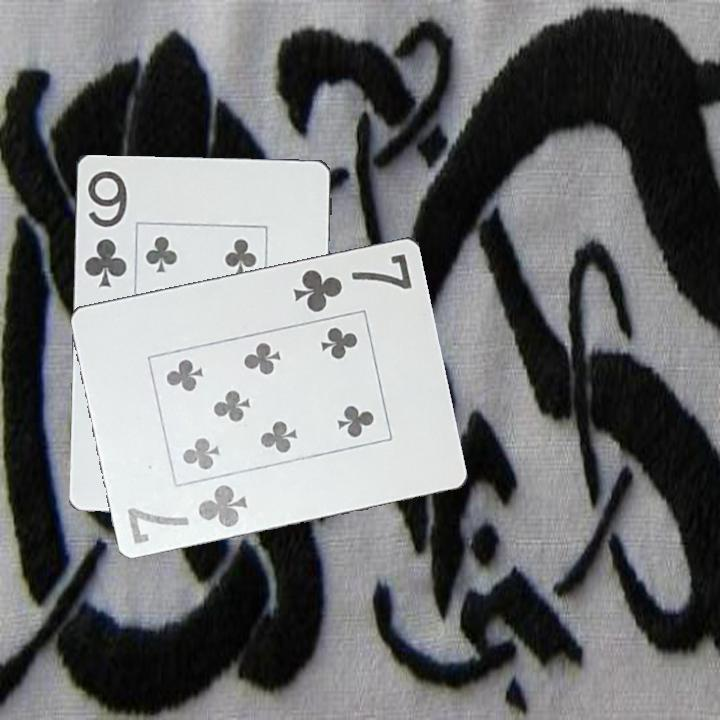7c: (123, 480, 251, 547), (289, 249, 416, 315)
9c: (80, 166, 131, 290)
